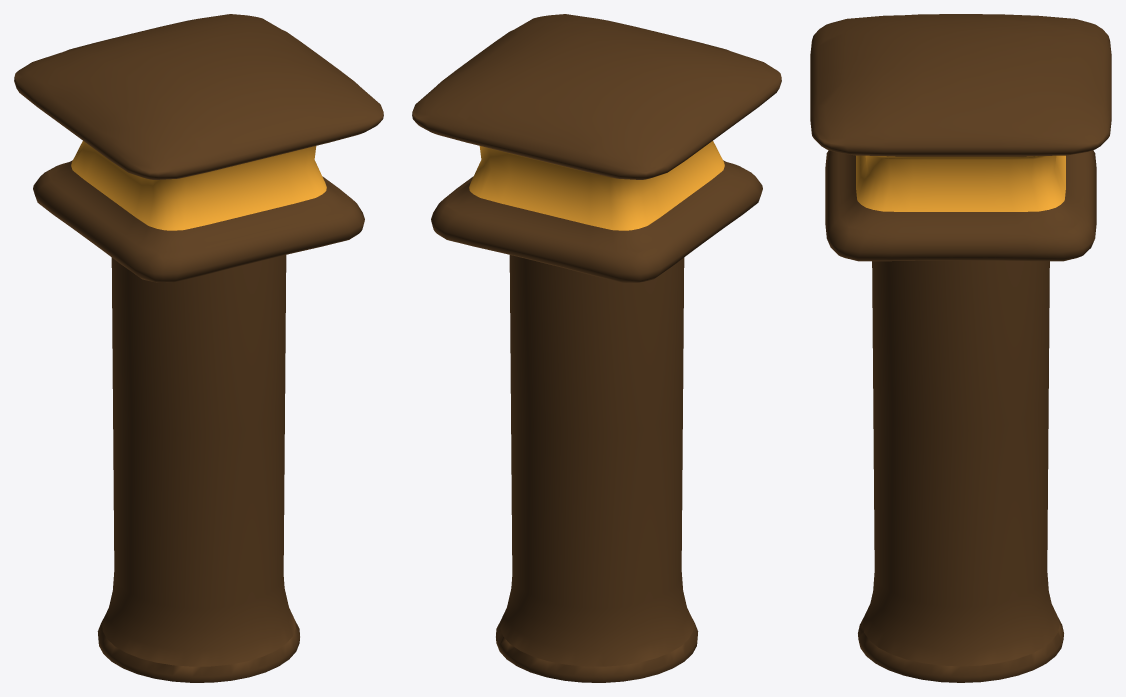
Rendered from Bow.glb.
3 renders of one model, left to right at view 1: azimuth 30°, elevation 25°; view 2: azimuth 150°, elevation 25°; view 3: azimuth 270°, elevation 25°, orthographic.
Parts seen in each view (by area): view 1: Cylinder, Cube; view 2: Cylinder, Cube; view 3: Cylinder, Cube.
Part boxes in pixels (<box>): Cylinder: <box>97,255,299,682</box>; Cube: <box>14,14,383,282</box>; Cylinder: <box>496,255,698,682</box>; Cube: <box>412,14,781,282</box>; Cylinder: <box>858,260,1063,682</box>; Cube: <box>810,14,1111,261</box>.
Bounding box in the file's own units: 10.39 × 22.65 × 10.39.
Materials: 2 (2 with a texture image).
